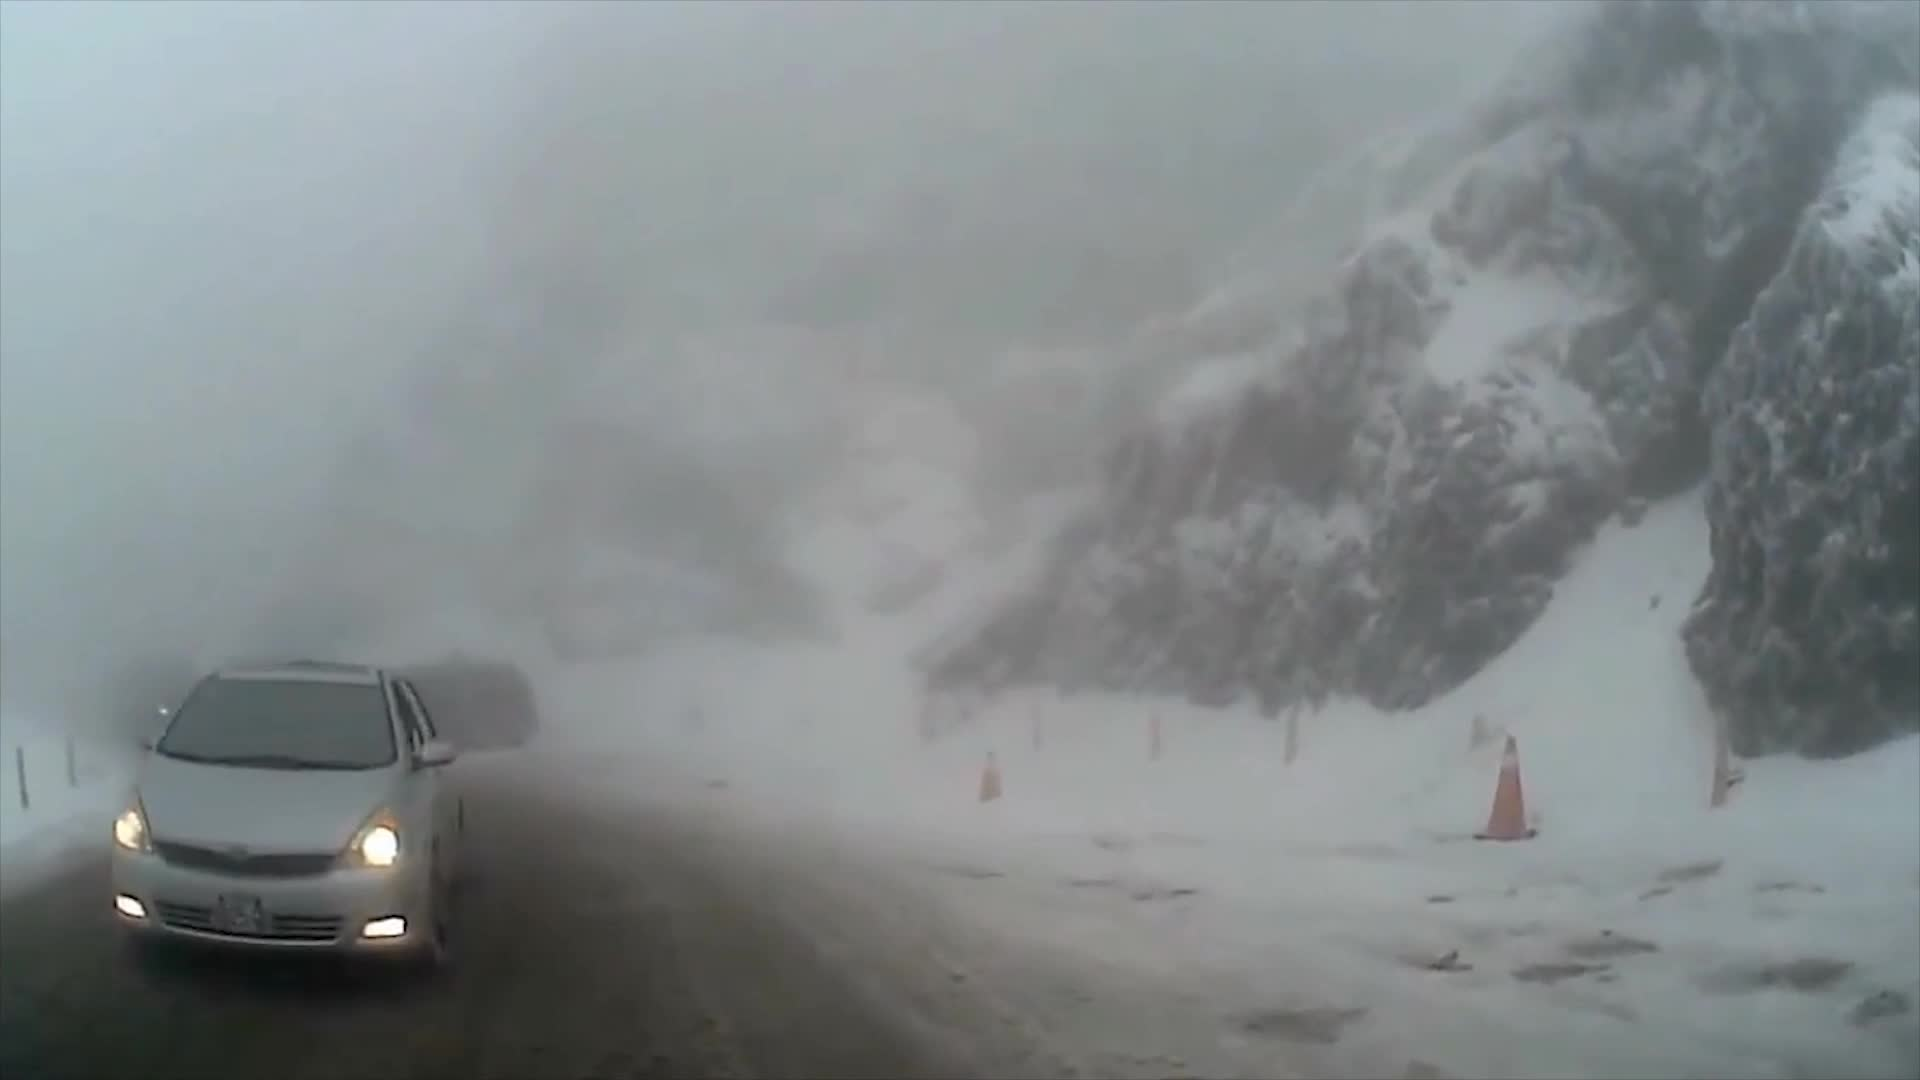vehicle: (104, 655, 463, 982)
